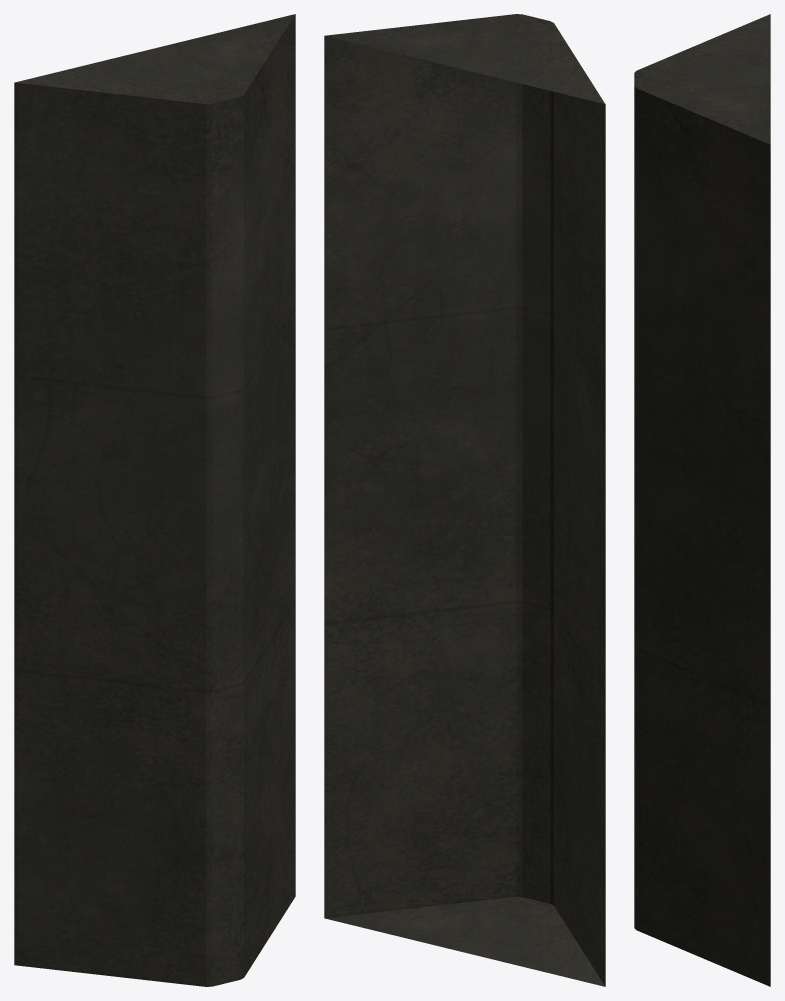
Rendered from wall_element_2.obj.
3 renders of one model, left to right at view 1: azimuth 30°, elevation 25°; view 2: azimuth 150°, elevation 25°; view 3: azimuth 270°, elevation 25°, orthographic. The views are drawn at different scales.
Visible parts, largest first — view 1: wall_element_2; view 2: wall_element_2; view 3: wall_element_2.
Boxes of the visible parts, box(x1,y1,x2,y2) form: wall_element_2: box(14, 14, 295, 986); wall_element_2: box(324, 14, 605, 986); wall_element_2: box(634, 14, 770, 986).
Size of the model in its own units: 1 by 3 by 0.44.
